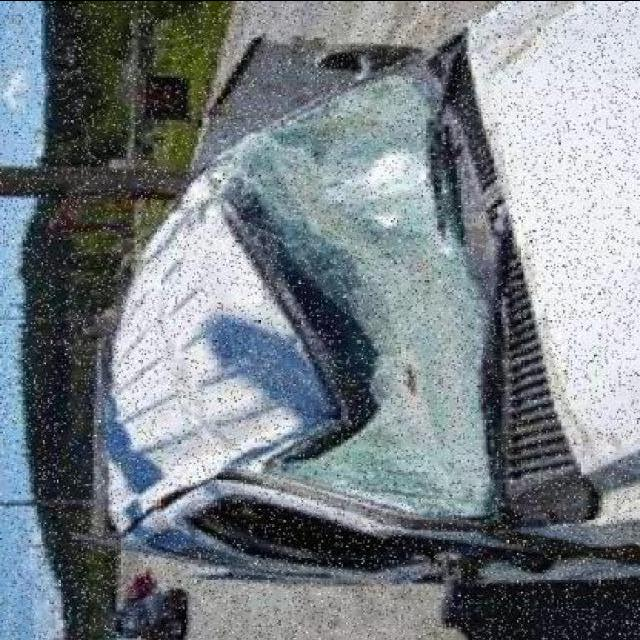Front-Windscreen-Damage: (203, 84, 506, 520)
roof-dent: (53, 178, 326, 544)
